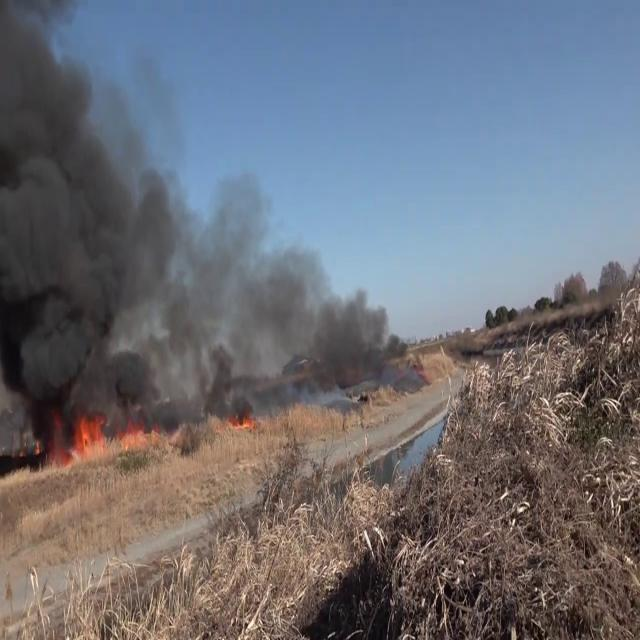Fire: (62, 402, 162, 460)
Smoke: (0, 1, 180, 442), (173, 179, 416, 401)
